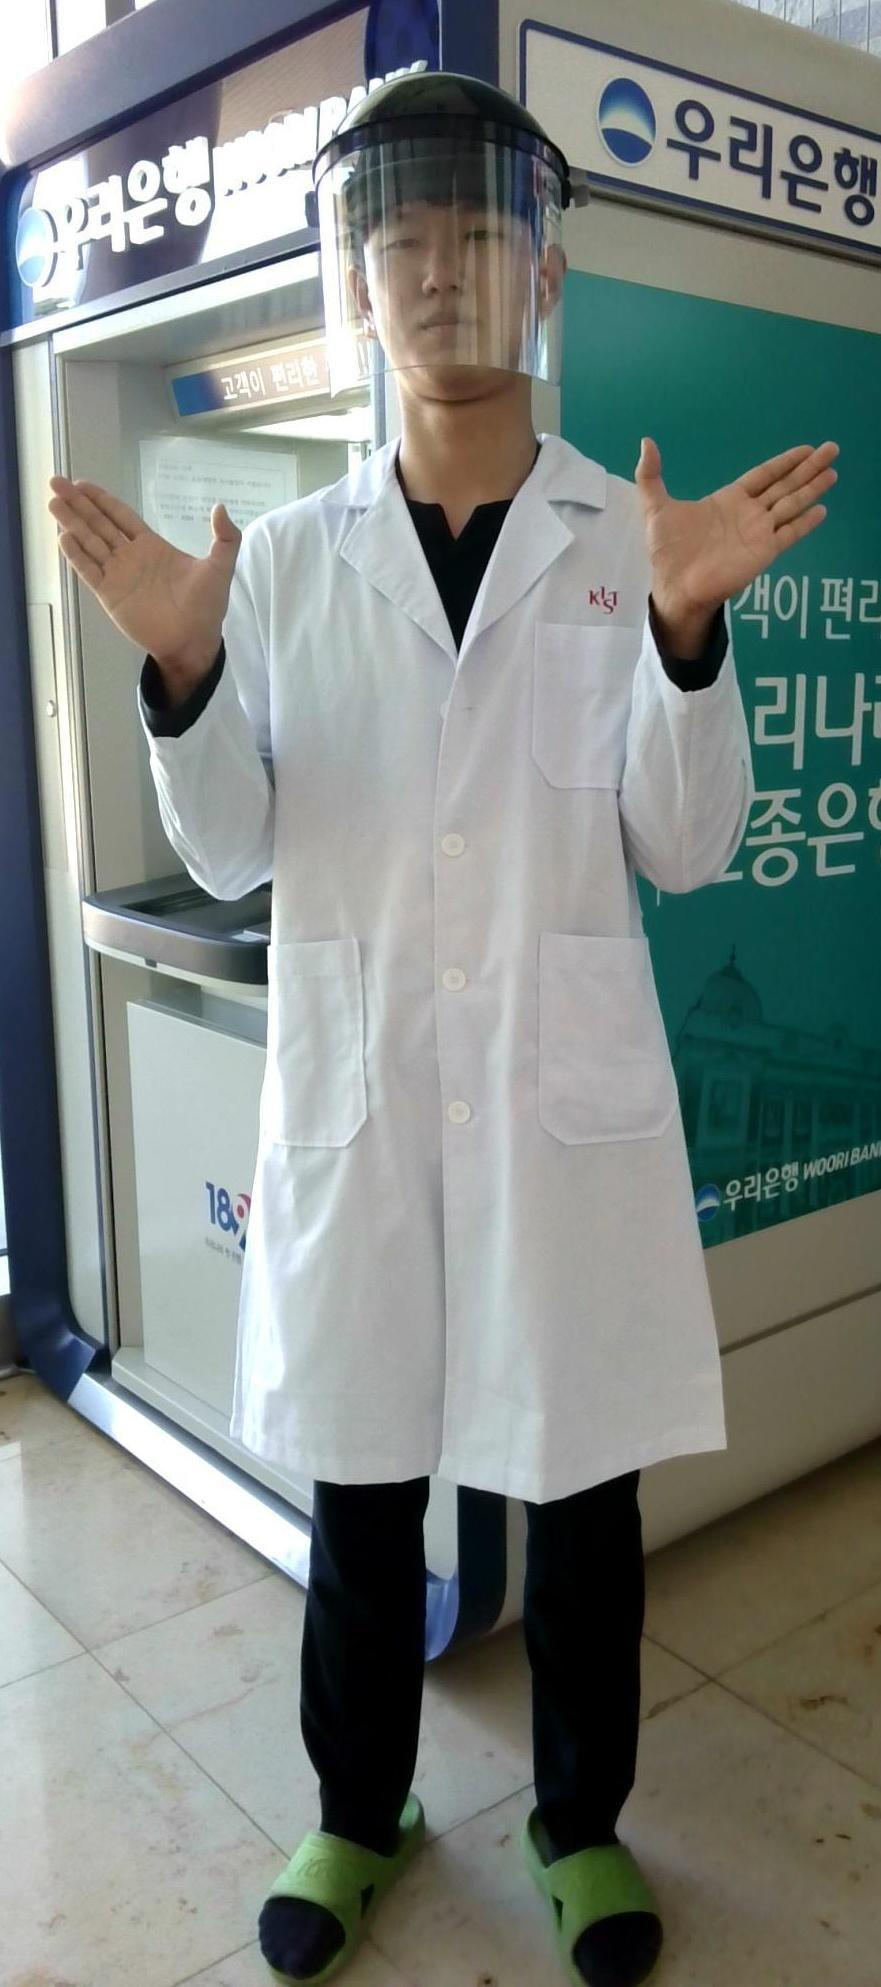lab_coat: (242, 490, 646, 1467)
